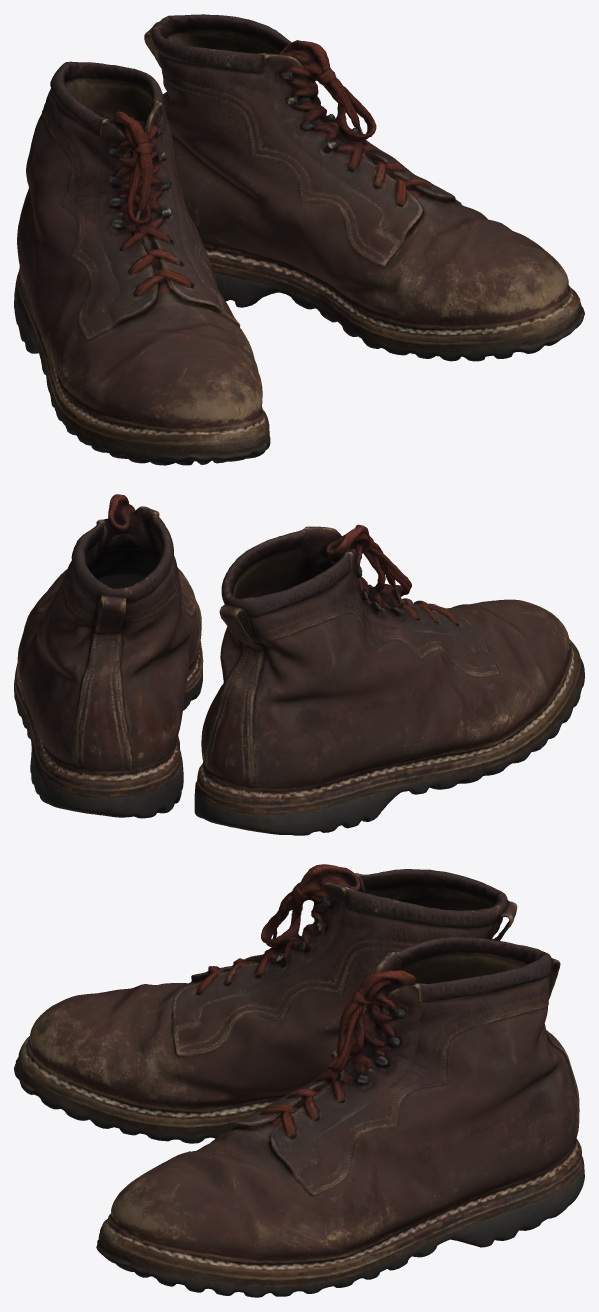
Rendered from shoe-transformed.glb.
3 renders of one model, top to bottom at view 1: azimuth 30°, elevation 25°; view 2: azimuth 150°, elevation 25°; view 3: azimuth 270°, elevation 25°, orthographic. The views are drawn at different scales.
Parts seen in each view (by area): view 1: Sphere001; view 2: Sphere001; view 3: Sphere001.
Boxes of the visible parts, left/top/right/bottom form: Sphere001: left=14, top=14, right=584, bottom=465; Sphere001: left=14, top=494, right=584, bottom=835; Sphere001: left=14, top=864, right=584, bottom=1297.
Size of the model in its own units: 40.96 by 20.45 by 40.22.
Materials: 1 (1 with a texture image).
